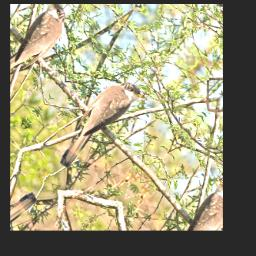Cuckoo: (47, 70, 148, 178)
